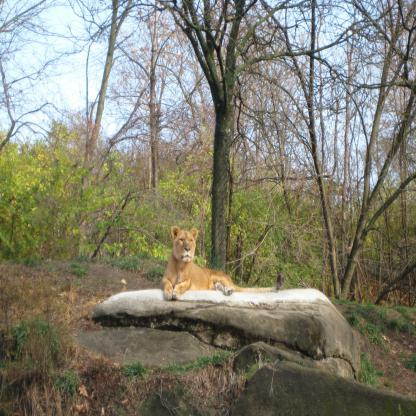lion: (166, 220, 202, 268)
